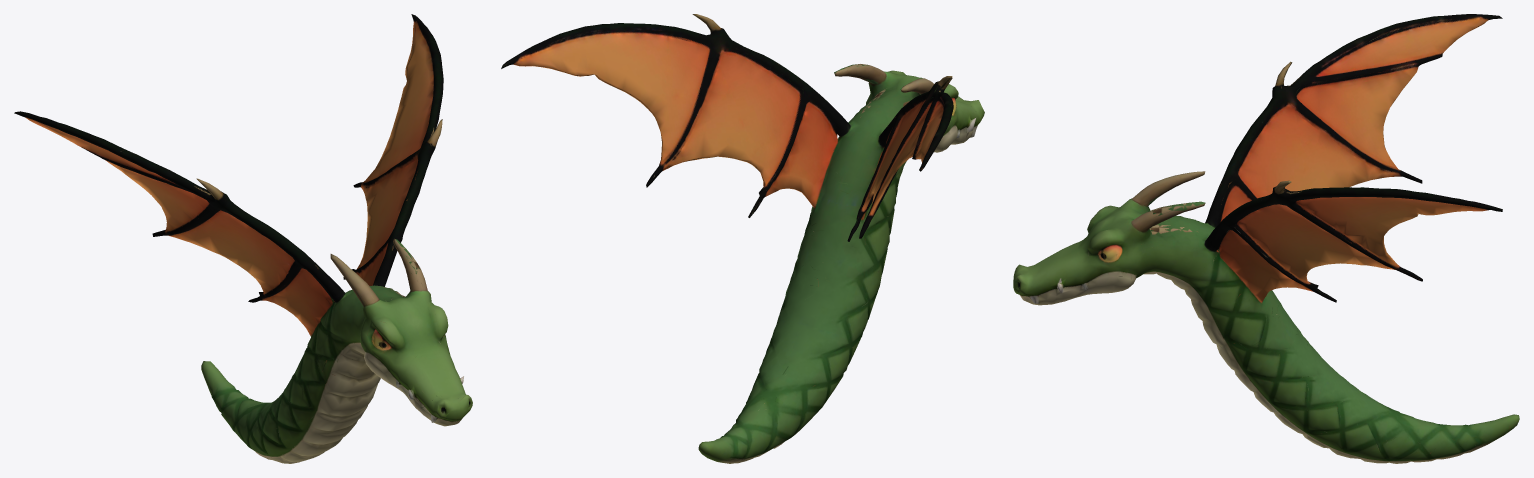
The model's file is dragon0_tripo3d_meshy_v4.glb.
3 renders of one model, left to right at view 1: azimuth 30°, elevation 25°; view 2: azimuth 150°, elevation 25°; view 3: azimuth 270°, elevation 25°, orthographic. The views are drawn at different scales.
Visible parts, largest first — view 1: Mesh1.0; view 2: Mesh1.0; view 3: Mesh1.0.
Boxes of the visible parts, x1,y1,x2,y2 form: Mesh1.0: (14, 14, 472, 463); Mesh1.0: (501, 14, 984, 463); Mesh1.0: (1013, 14, 1519, 463).
Bounding box in the file's own units: 1.82 × 1.56 × 2.01.
Materials: 1 (1 with a texture image).
